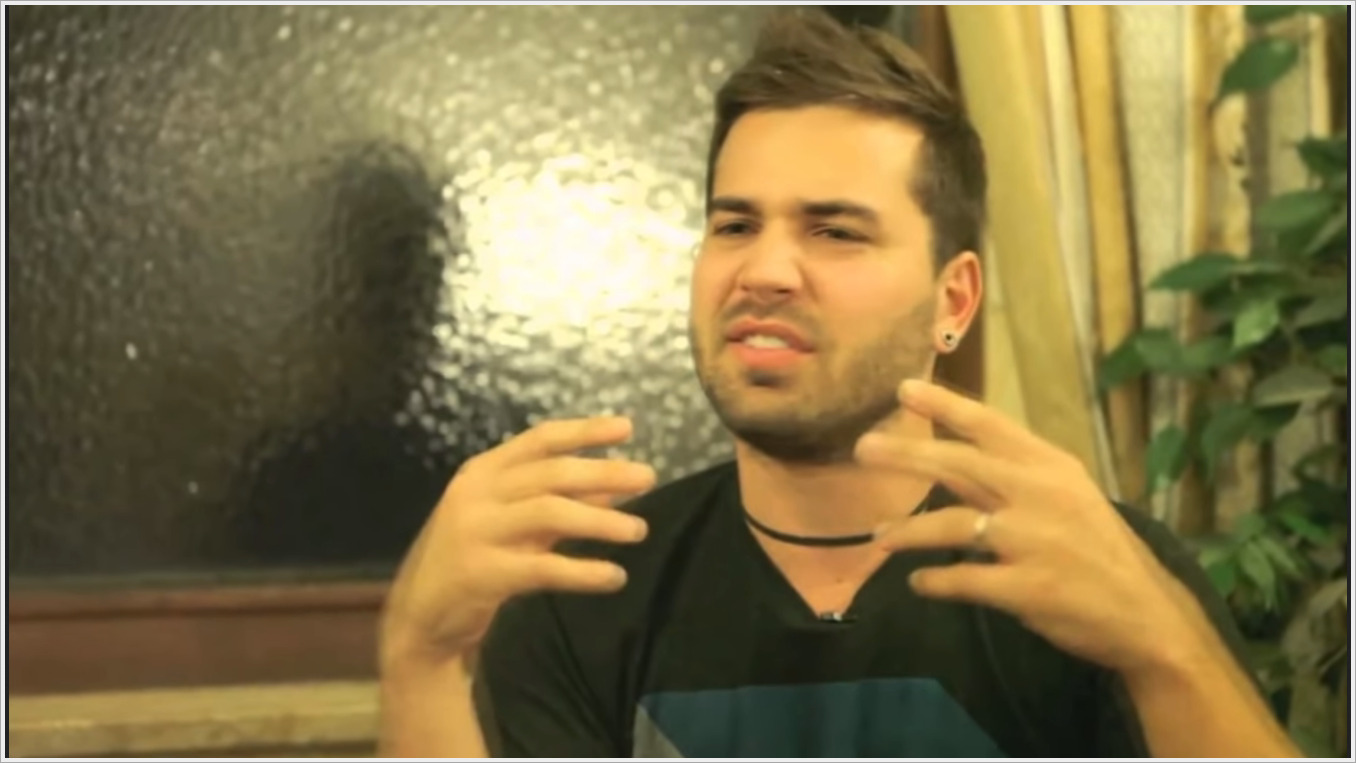hand: (853, 375, 1215, 674), (383, 404, 663, 648)
